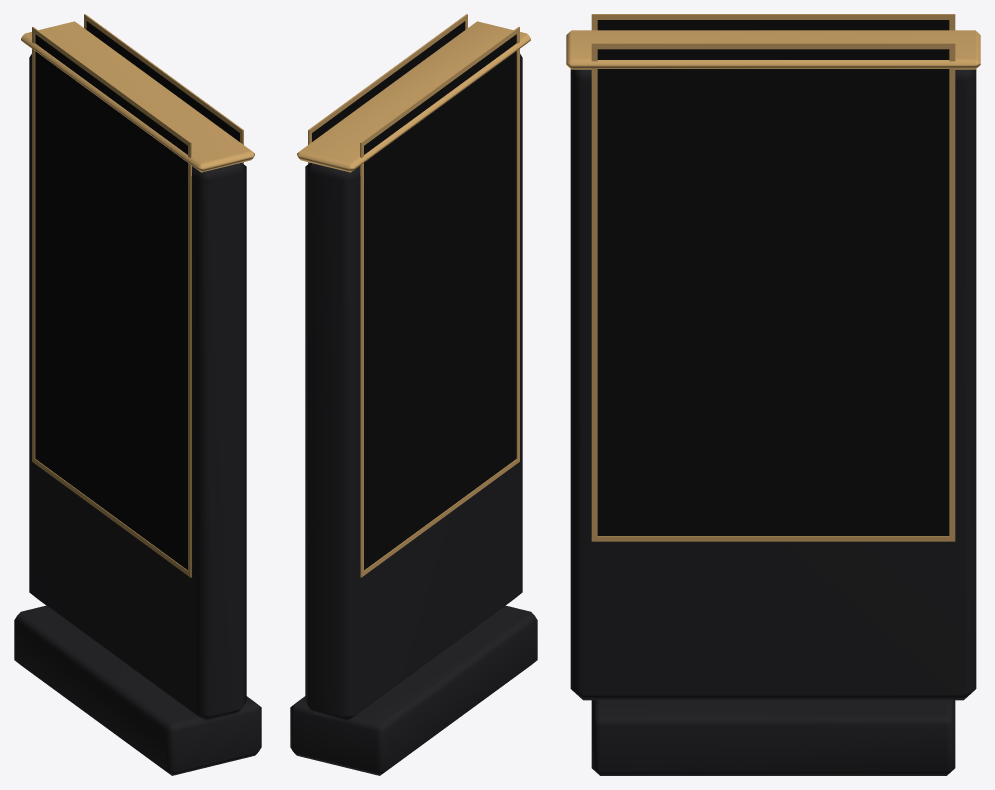
File: poster_totem.glb
3 renders of one model, left to right at view 1: azimuth 30°, elevation 25°; view 2: azimuth 150°, elevation 25°; view 3: azimuth 270°, elevation 25°, orthographic. The views are drawn at different scales.
Parts seen in each view (by area): view 1: Mesh_Bed-1, Mesh_Box, Mesh_Plinth, Mesh_Cap, Mesh_Frame-1_0.00_0.42, Mesh_Frame-1_0.00_-0.42, Mesh_Bed1, Mesh_Frame-1_0.64_0.00, Mesh_Frame1_0.64_0.00, Mesh_Frame-1_-0.64_0.00; view 2: Mesh_Bed-1, Mesh_Box, Mesh_Plinth, Mesh_Cap, Mesh_Frame-1_0.00_-0.42, Mesh_Frame-1_0.00_0.42, Mesh_Bed1, Mesh_Frame-1_0.64_0.00, Mesh_Frame1_0.64_0.00, Mesh_Frame-1_-0.64_0.00; view 3: Mesh_Bed1, Mesh_Box, Mesh_Plinth, Mesh_Cap, Mesh_Bed-1, Mesh_Frame1_0.00_0.42, Mesh_Frame1_0.00_-0.42, Mesh_Frame1_0.64_0.00, Mesh_Frame-1_0.64_0.00, Mesh_Frame1_-0.64_0.00.
Boxes of the visible parts, x1,y1,x2,y2 form: Mesh_Bed-1: [35, 34, 187, 570]; Mesh_Box: [29, 54, 246, 721]; Mesh_Plinth: [14, 605, 261, 775]; Mesh_Cap: [21, 21, 254, 172]; Mesh_Frame-1_0.00_0.42: [188, 146, 191, 572]; Mesh_Frame-1_0.00_-0.42: [32, 32, 35, 458]; Mesh_Bed1: [86, 21, 239, 141]; Mesh_Frame-1_0.64_0.00: [32, 27, 191, 147]; Mesh_Frame1_0.64_0.00: [84, 14, 243, 134]; Mesh_Frame-1_-0.64_0.00: [32, 457, 191, 577]; Mesh_Bed-1: [364, 34, 516, 570]; Mesh_Box: [305, 54, 522, 721]; Mesh_Plinth: [290, 605, 537, 775]; Mesh_Cap: [297, 21, 530, 172]; Mesh_Frame-1_0.00_-0.42: [360, 146, 363, 572]; Mesh_Frame-1_0.00_0.42: [516, 32, 519, 458]; Mesh_Bed1: [312, 21, 465, 141]; Mesh_Frame-1_0.64_0.00: [360, 27, 519, 147]; Mesh_Frame1_0.64_0.00: [308, 14, 467, 134]; Mesh_Frame-1_-0.64_0.00: [360, 457, 519, 577]; Mesh_Bed1: [597, 49, 949, 535]; Mesh_Box: [570, 69, 976, 700]; Mesh_Plinth: [591, 700, 955, 775]; Mesh_Cap: [566, 30, 980, 69]; Mesh_Bed-1: [597, 20, 949, 30]; Mesh_Frame1_0.00_0.42: [591, 49, 597, 536]; Mesh_Frame1_0.00_-0.42: [949, 49, 955, 536]; Mesh_Frame1_0.64_0.00: [591, 43, 955, 49]; Mesh_Frame-1_0.64_0.00: [591, 14, 955, 19]; Mesh_Frame1_-0.64_0.00: [591, 536, 955, 541].
Size of the model in its own units: 0.3 by 1.89 by 0.98.
